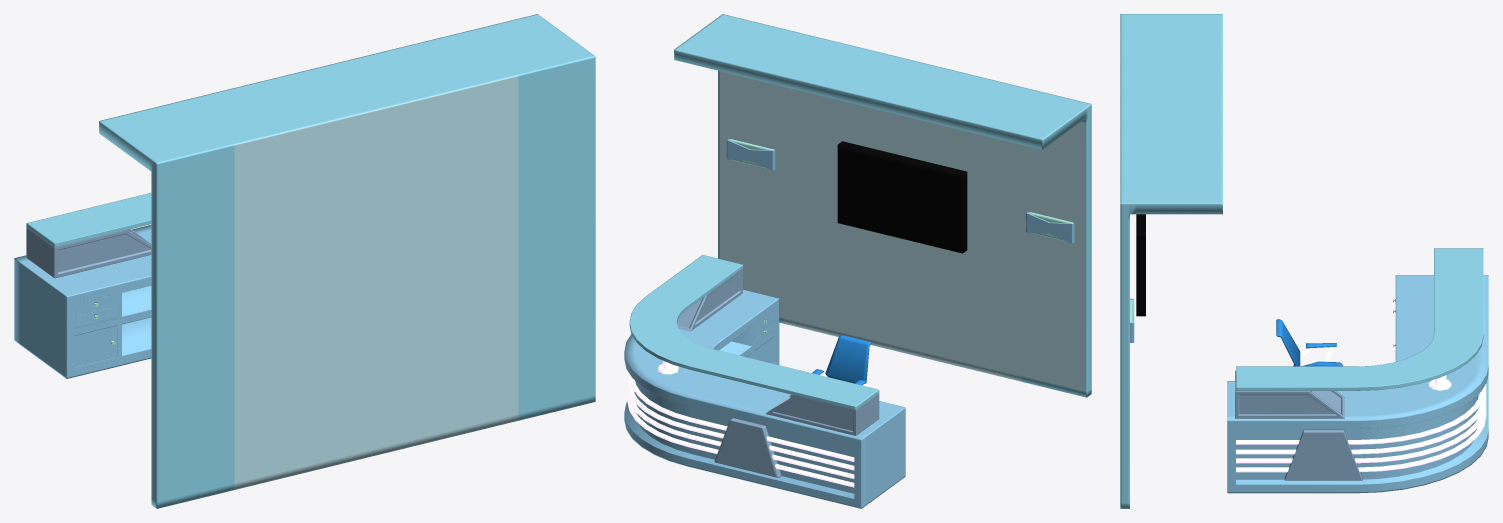
3 views of the same model, side by side, from view 1: azimuth 30°, elevation 25°; view 2: azimuth 150°, elevation 25°; view 3: azimuth 270°, elevation 25° (orthographic). The views are drawn at different scales.
Parts seen in each view (by area): view 1: Wall, Table, Box, Glass, CupBoard; view 2: Wall, Table, LCD, Glass, Box, Board.001, Chair, Box.001, Pipe, Pipe.003, Lamp.001, Lamp (+2 smaller); view 3: Wall, Table, Glass, Board, Box.001, Pipe, Pipe.003, Pipe.001, Pipe.002, Chair, LCD.
Boxes of the visible parts, x1,y1,x2,y2 form: Wall: (99, 14, 595, 508); Table: (14, 225, 151, 378); Box: (26, 227, 151, 278); Glass: (26, 193, 151, 247); CupBoard: (75, 326, 116, 367); Wall: (674, 14, 1091, 397); Table: (624, 289, 905, 508); LCD: (837, 141, 967, 253); Glass: (629, 255, 879, 410); Box: (766, 393, 879, 435); Board.001: (714, 418, 781, 477); Chair: (812, 335, 871, 386); Box.001: (677, 269, 742, 331); Pipe: (627, 375, 854, 470); Pipe.003: (629, 374, 854, 461); Lamp.001: (726, 138, 775, 170); Lamp: (1026, 211, 1074, 243); Wall: (1120, 14, 1222, 508); Table: (1227, 275, 1488, 493); Glass: (1236, 248, 1483, 390); Board: (1284, 429, 1362, 480); Box.001: (1235, 370, 1344, 418); Pipe: (1236, 384, 1486, 454); Pipe.003: (1236, 385, 1485, 444); Pipe.001: (1236, 399, 1486, 463); Pipe.002: (1236, 408, 1486, 472); Chair: (1276, 319, 1342, 366); LCD: (1136, 214, 1145, 316).
Size of the model in its own units: 11.09 by 8.34 by 9.12.
